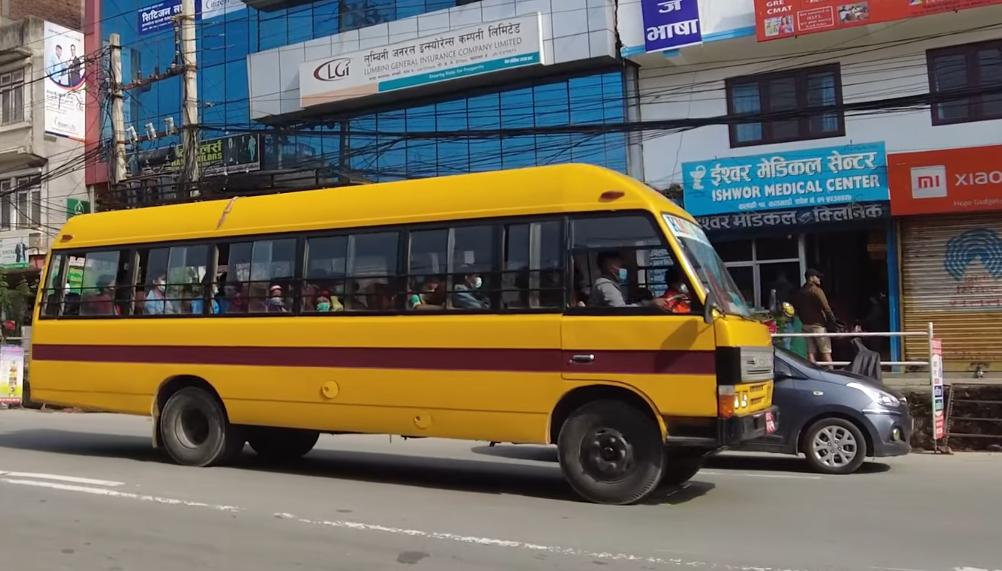car: (762, 338, 916, 474)
school_bus: (19, 161, 778, 510)
